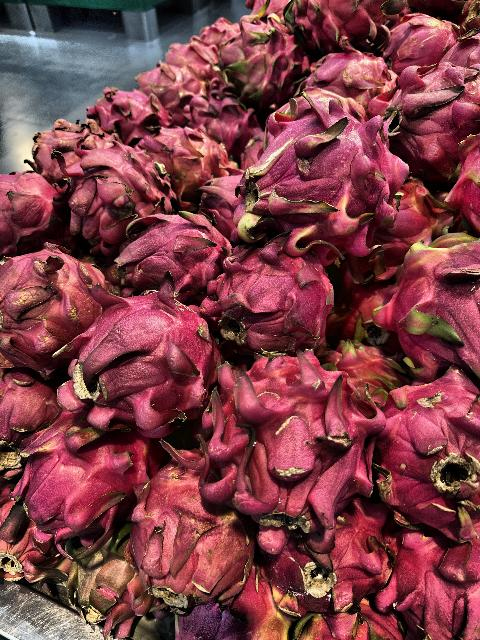buah-naga-belum-matang: (131, 451, 257, 619), (394, 234, 480, 374), (65, 522, 158, 640), (137, 128, 237, 196)
buah-naga-matang: (202, 352, 387, 528), (69, 282, 223, 438), (249, 101, 401, 242), (234, 504, 392, 604), (28, 420, 164, 534), (374, 390, 480, 522), (202, 248, 330, 348), (0, 250, 108, 366), (58, 152, 164, 238), (119, 207, 211, 291), (300, 50, 400, 120), (400, 75, 480, 162), (0, 480, 58, 596), (0, 362, 64, 466), (381, 8, 472, 74), (2, 170, 68, 252), (27, 116, 113, 170), (83, 76, 165, 132), (132, 57, 204, 116)
